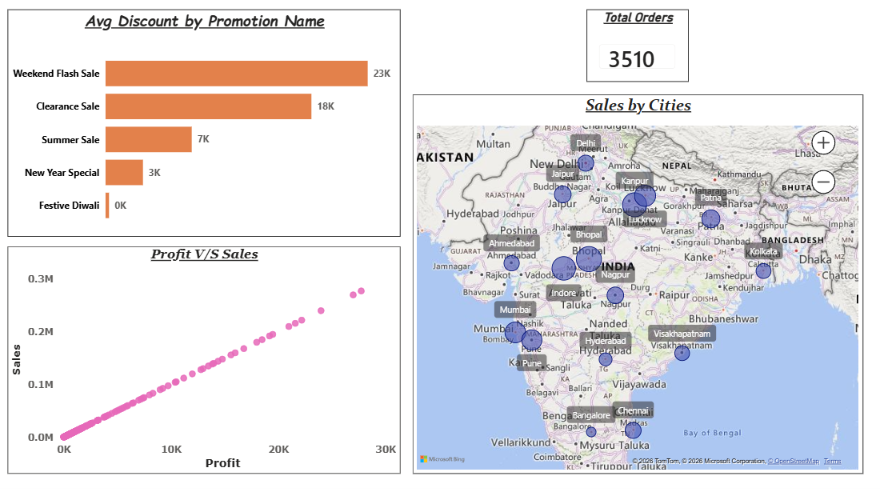

The dashboard page shown, as its layout file describes it:
{"tool":"powerbi","page":{"name":"Overview","canvas":[1280,720],"ordinal":0},"visuals":[{"type":"scatterChart","title":"Profit V/S Sales","fields":{"X":["Fact Table.Profit"],"Y":["Fact Table.Net Sales"]},"box":[20.6,359.5,559.9,323.8],"z":0},{"type":"barChart","title":"Avg Discount by Promotion Name","fields":{"Category":["Dim Promotion.Promotion Name"],"Y":["Avg(Fact Table.Discount Value)"]},"box":[20.6,22,559.9,323.8],"z":1000},{"type":"cardVisual","title":"Total Orders","fields":{"Data":["CountNonNull(Fact Table.CustomerID)"]},"box":[845.3,22,145.5,102.9],"z":2000},{"type":"map","title":" Sales by Cities","fields":{"Category":["Dim Customers.City"],"Size":["Sum(Fact Table.Net Sales)"]},"box":[596.9,142.7,642.2,540.7],"z":3000}]}

Visuals, with their boxes in screenshot pixels (x1, y1, x2, y2), scaled from the page's 1280x720 canvas onto the 880x489 screenshot:
"Profit V/S Sales" scatterChart: 14, 244, 399, 464
"Avg Discount by Promotion Name" barChart: 14, 15, 399, 235
"Total Orders" cardVisual: 581, 15, 681, 85
" Sales by Cities" map: 410, 97, 852, 464
